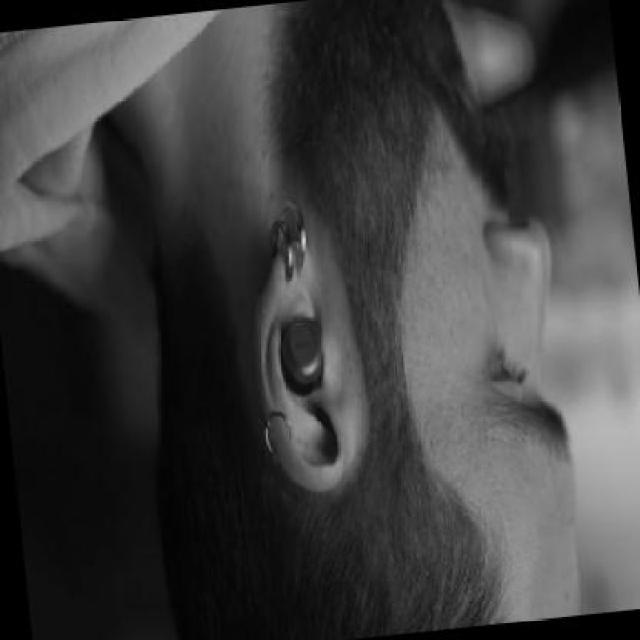earphone: (275, 308, 323, 392)
